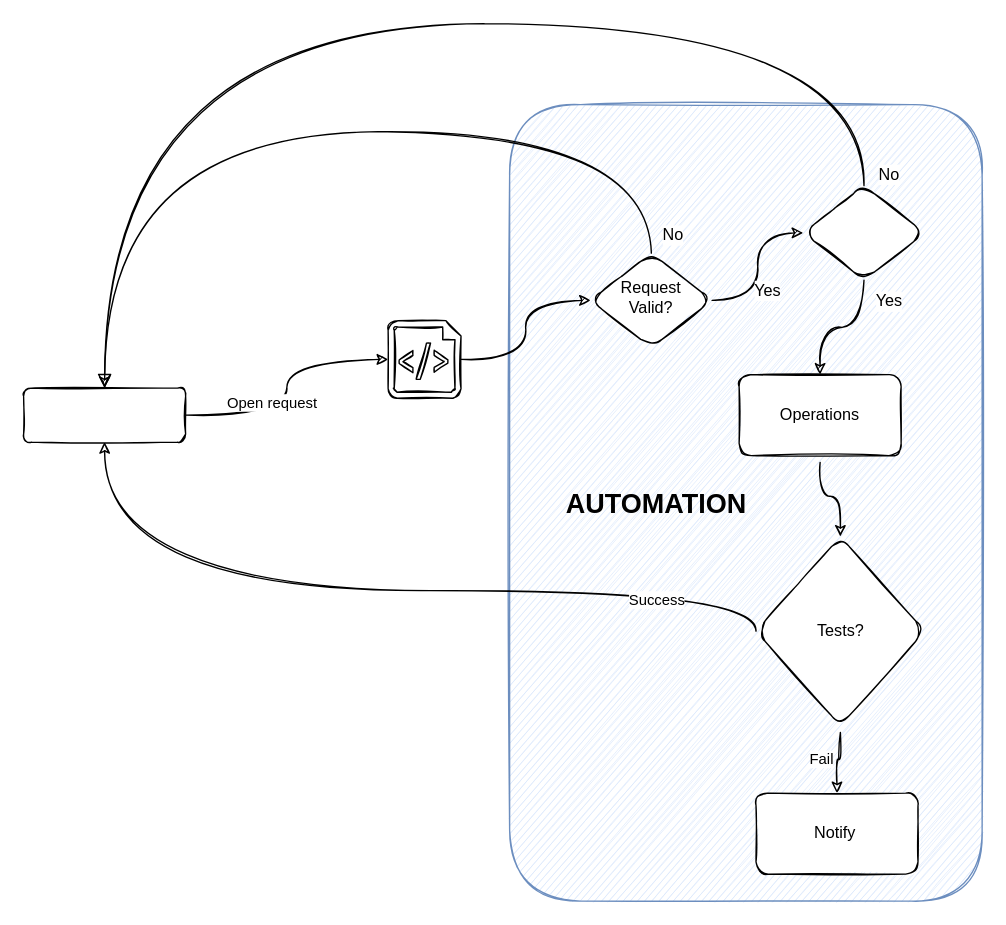
The diagram is 1006 pixels wide and 925 high, and some of its shapes have lost their labels. Here are the shapes that lost their labels. From the top down, the centre of each, then its label:
At point (863, 232): "Approved".
At point (104, 414): "ITSM".
